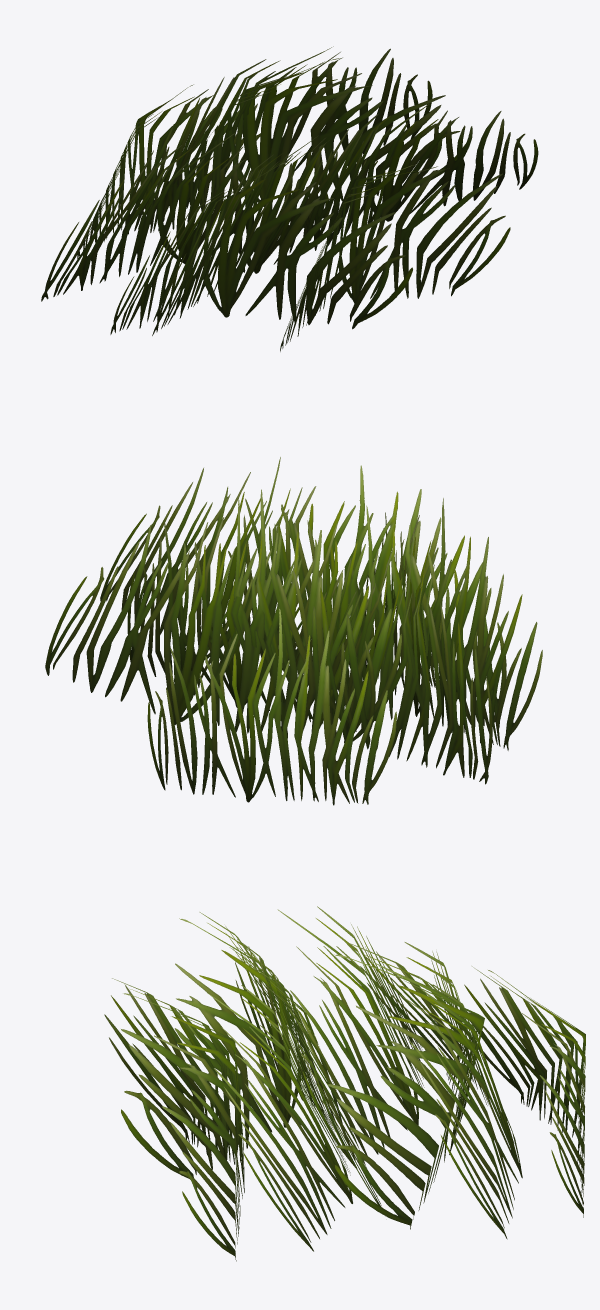
File: grassKit_front_small.fbx
The picture shows the model from 3 angles, top to bottom: view 1: azimuth 30°, elevation 25°; view 2: azimuth 150°, elevation 25°; view 3: azimuth 270°, elevation 25°; orthographic projection. The views are drawn at different scales.
Parts seen in each view (by area): view 1: grassKit_front_small; view 2: grassKit_front_small; view 3: grassKit_front_small.
Part boxes in pixels (x1=…): grassKit_front_small: x1=41, y1=46, x2=538, y2=351; grassKit_front_small: x1=45, y1=457, x2=542, y2=805; grassKit_front_small: x1=104, y1=906, x2=585, y2=1261.
Size of the model in its own units: 2.1 by 1.07 by 1.8.
